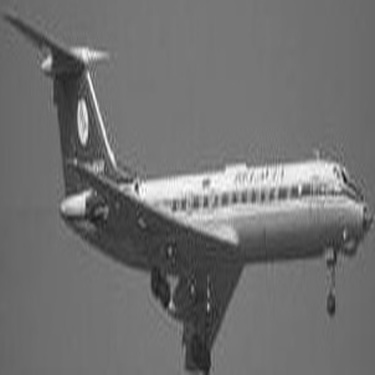airplane: (4, 1, 369, 369)
